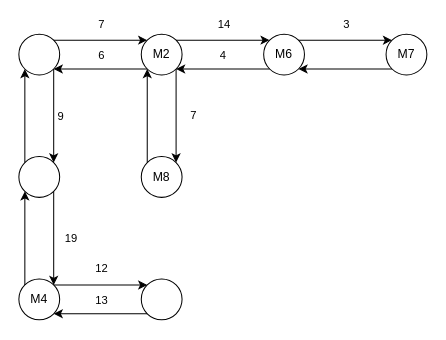
Image size: 446x340. Some labels were removed from this diagram. Each missing label, with the box of its shape:
M1: (18, 33, 60, 75)
M3: (18, 156, 60, 197)
M5: (140, 278, 182, 320)
